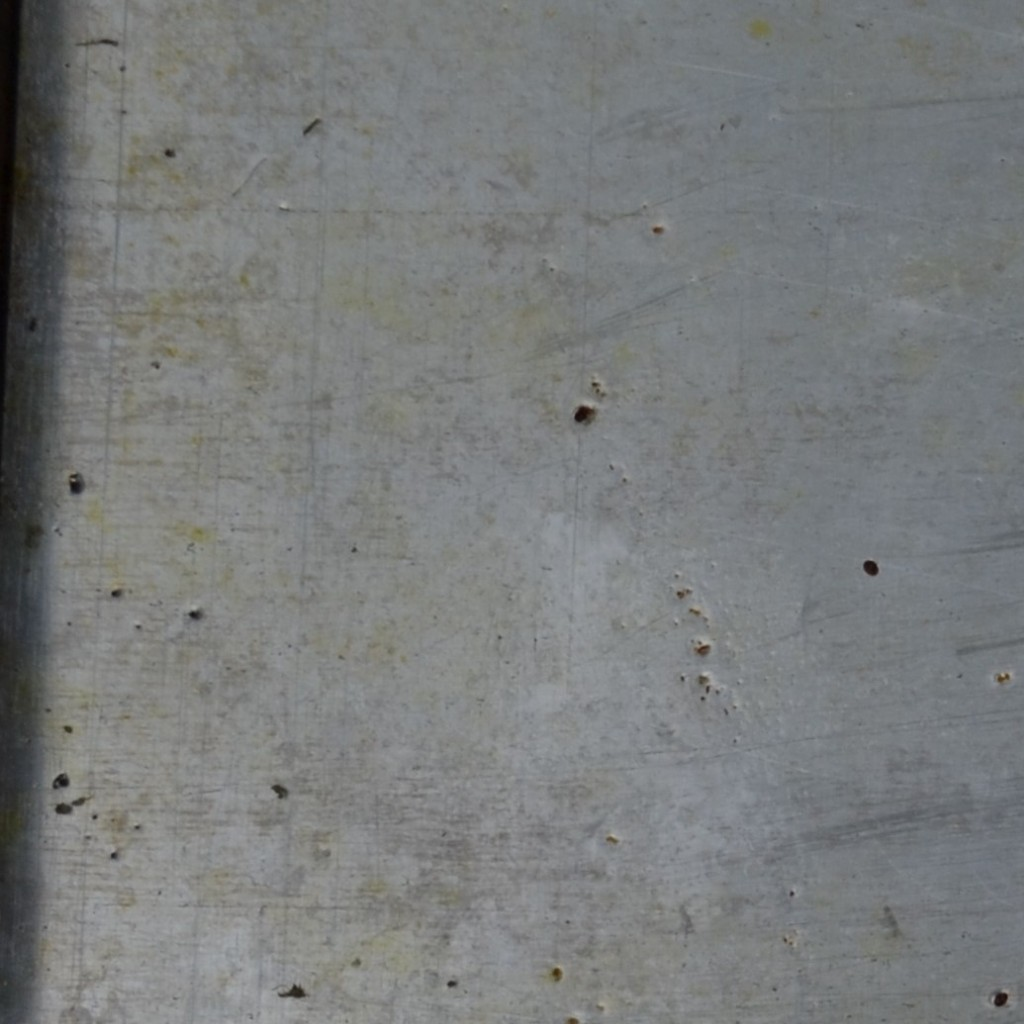varroe: (373, 680, 510, 799), (458, 517, 615, 534), (561, 316, 647, 334), (568, 395, 600, 432), (582, 390, 600, 420), (573, 402, 596, 424), (67, 469, 84, 494), (861, 556, 879, 579), (992, 989, 1010, 1007), (862, 559, 879, 578), (698, 435, 701, 524)
